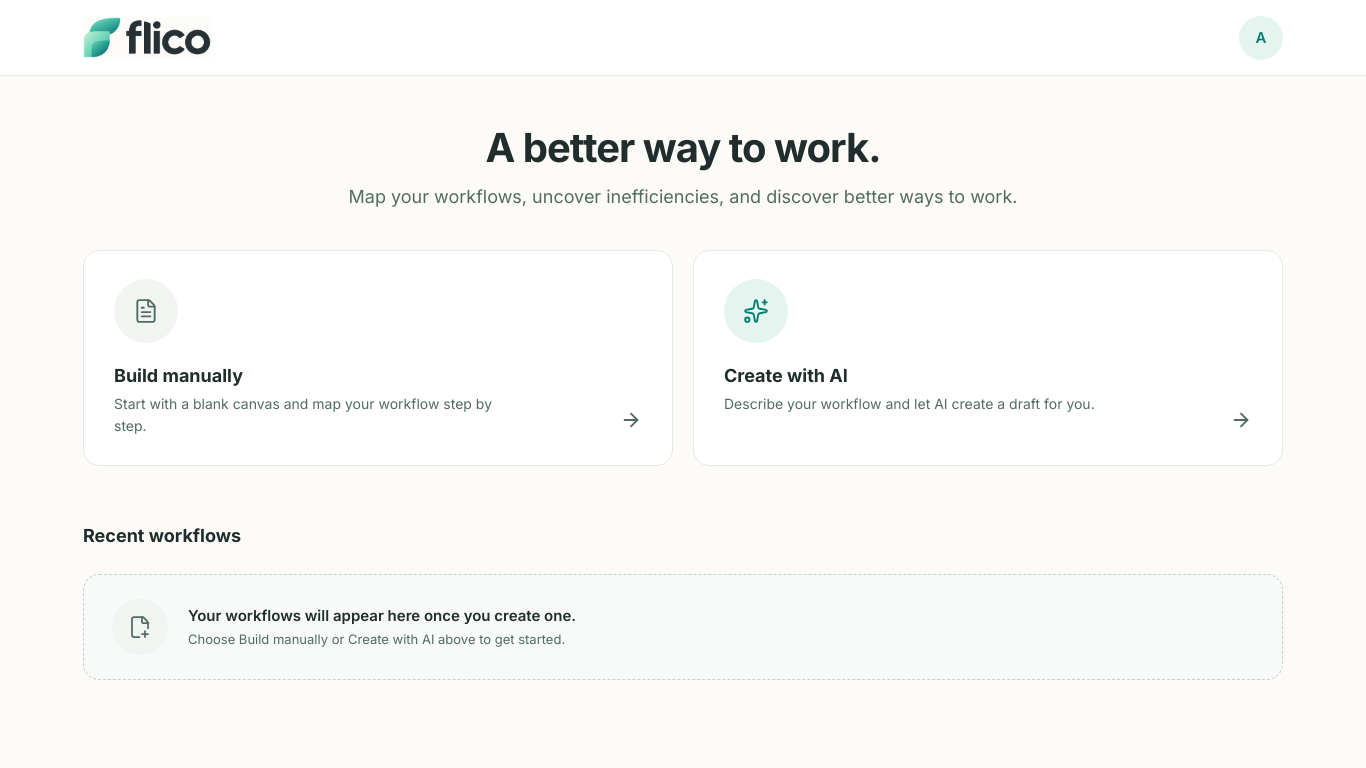
Scenario: dashboard › Build manually creates a workflow and opens it (D02)
Click the button "Build manually".
click(146, 311)  # box [83,250,673,466]
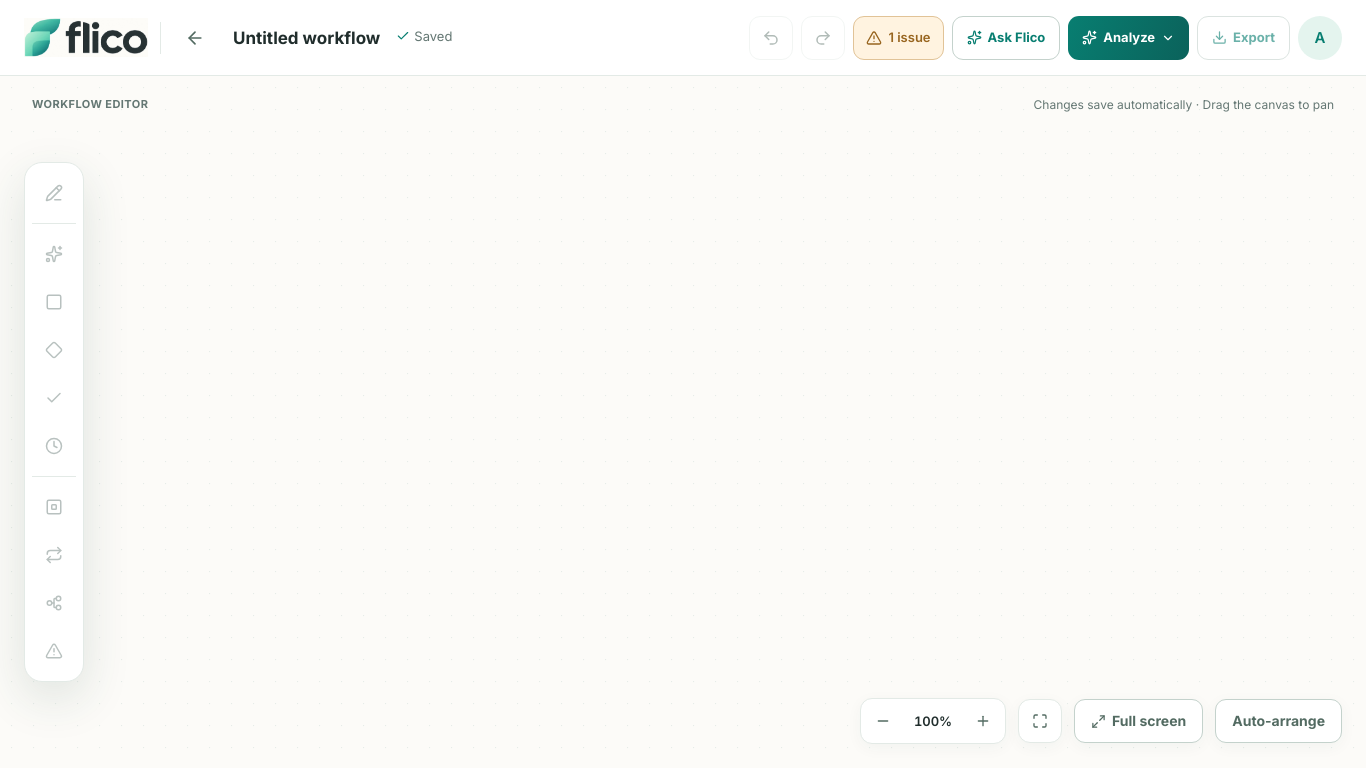
Now the heading "Untitled workflow" is shown, box [229,24,384,50]
